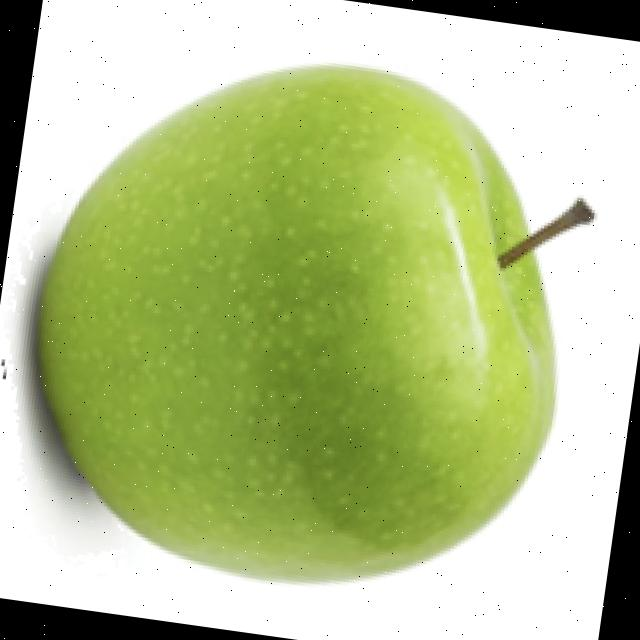apple: (0, 57, 600, 588)
